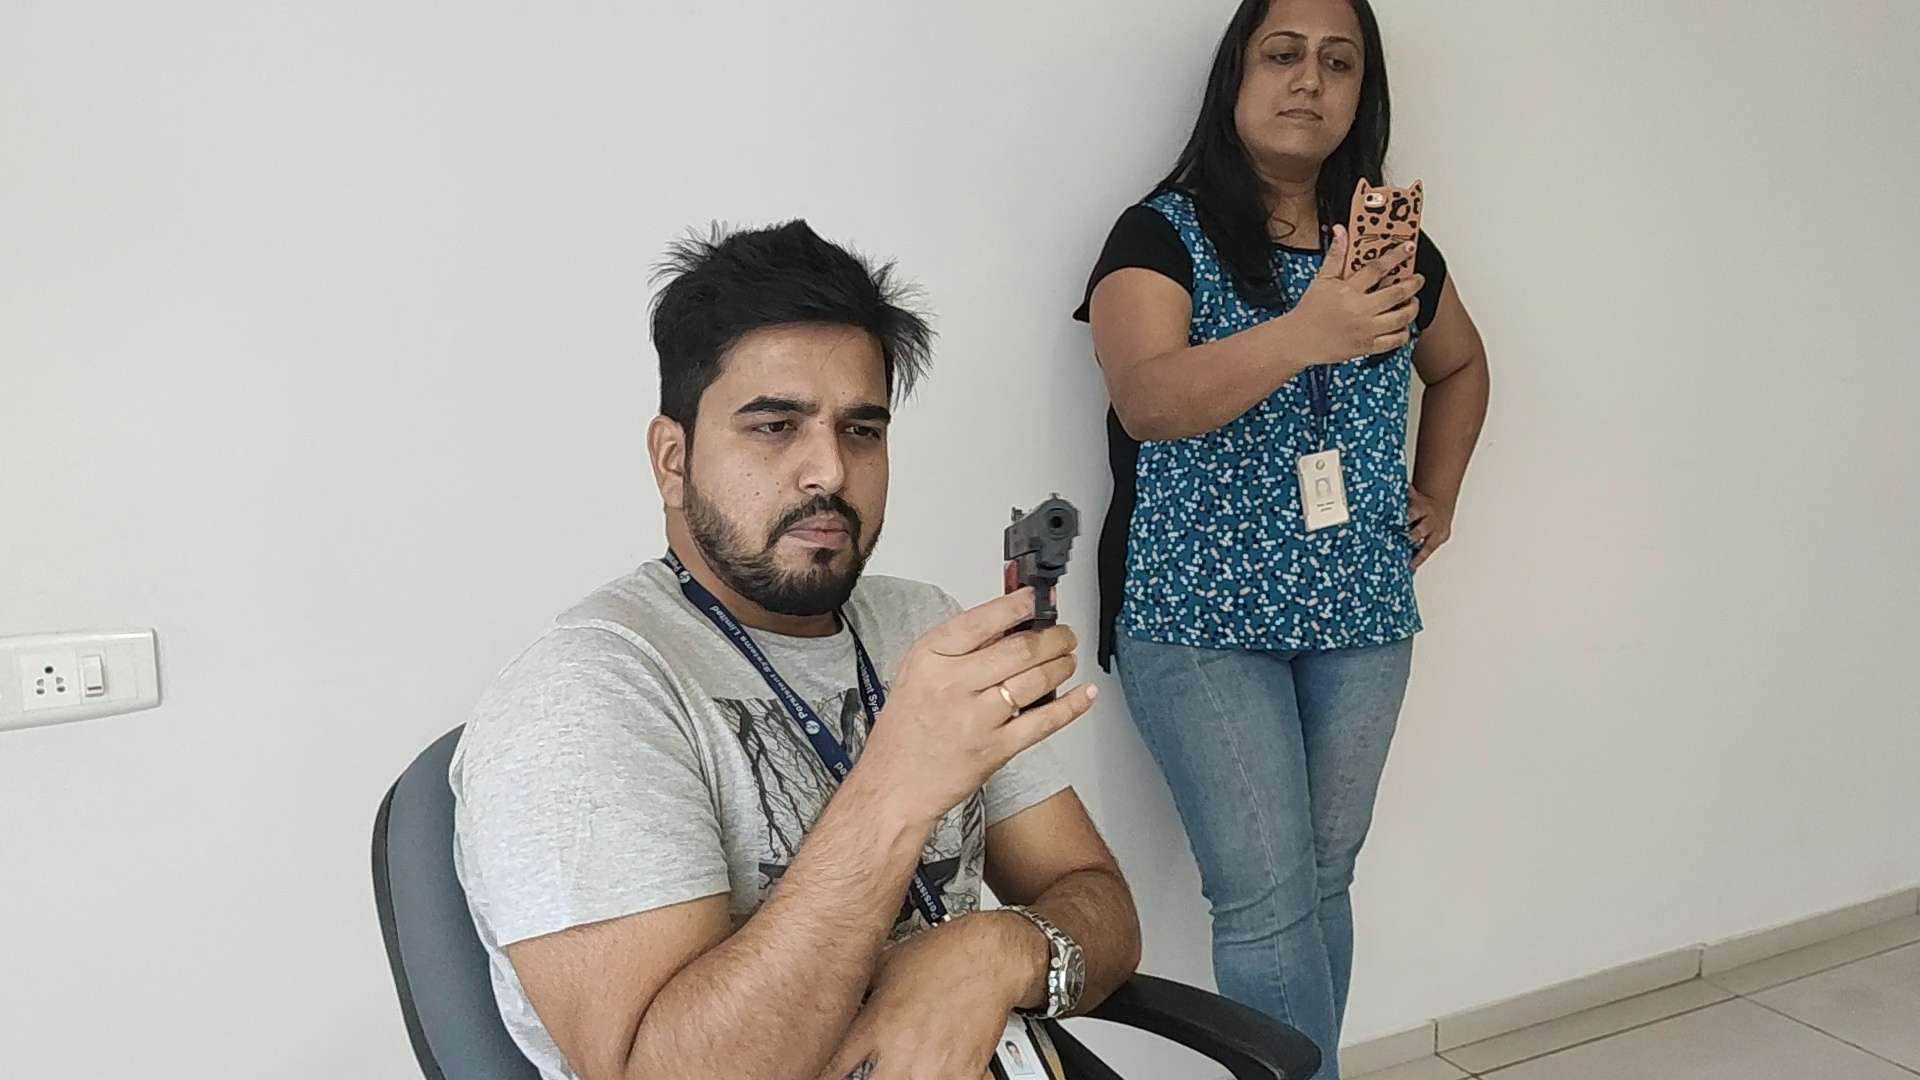gun: (1002, 492, 1077, 585)
